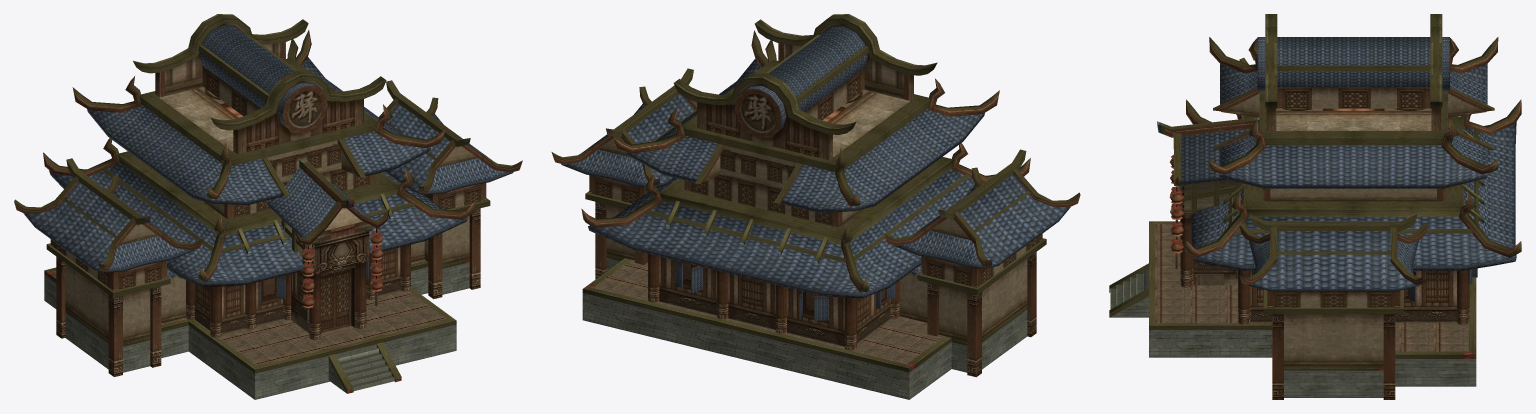
The model's file is Yland3_fzi_07 Yland3.FBX.
3 views of the same model, side by side, from view 1: azimuth 30°, elevation 25°; view 2: azimuth 150°, elevation 25°; view 3: azimuth 270°, elevation 25° (orthographic). The views are drawn at different scales.
Visible parts, largest first — view 1: Yland3_fzi_07 Yland3; view 2: Yland3_fzi_07 Yland3; view 3: Yland3_fzi_07 Yland3.
Part boxes in pixels (left/top/right/bottom): Yland3_fzi_07 Yland3: left=14, top=14, right=522, bottom=399; Yland3_fzi_07 Yland3: left=551, top=14, right=1080, bottom=399; Yland3_fzi_07 Yland3: left=1109, top=14, right=1521, bottom=399.
Bounding box in the file's own units: 19.92 × 11.66 × 15.83.
